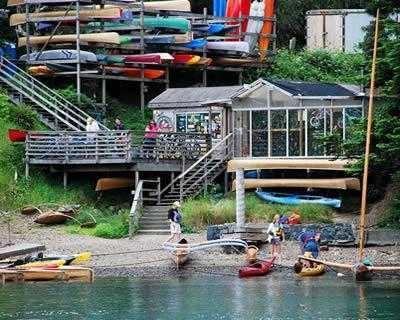kayak: (18, 14, 193, 46), (161, 238, 248, 266), (19, 49, 98, 75), (1, 266, 95, 283), (254, 190, 342, 208), (206, 222, 273, 244), (238, 253, 280, 278), (1, 256, 72, 270), (0, 242, 46, 260), (162, 239, 190, 266), (293, 255, 326, 277)
